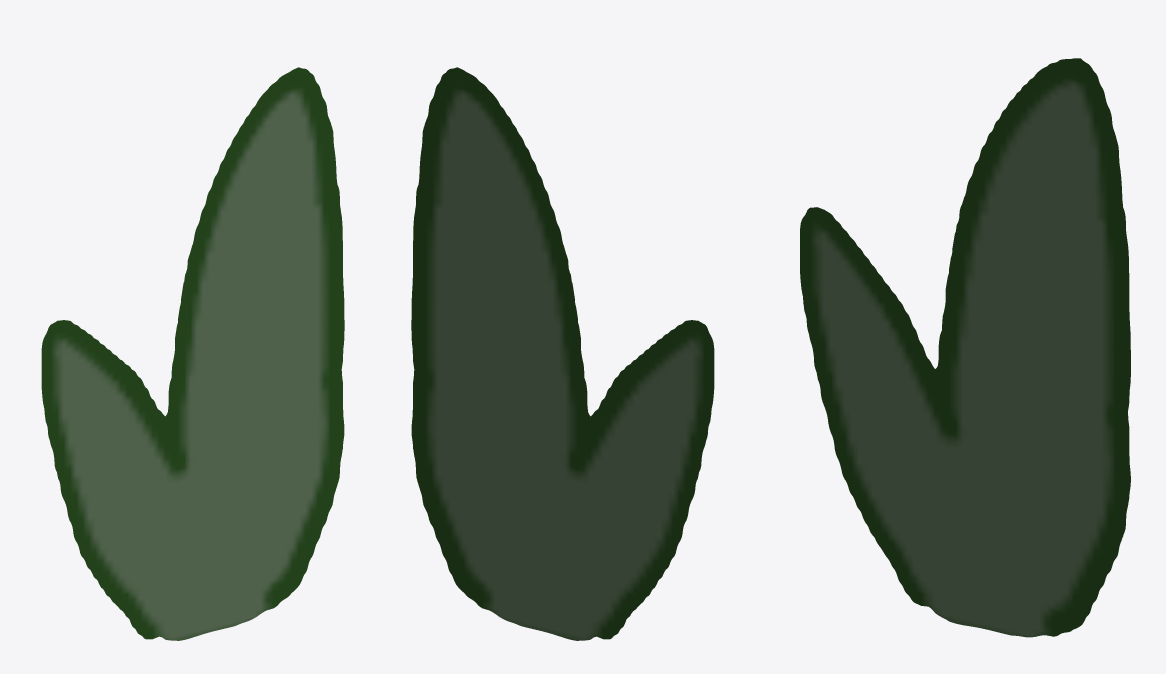
Rendered from grass002_mesh.fbx.
3 renders of one model, left to right at view 1: azimuth 30°, elevation 25°; view 2: azimuth 150°, elevation 25°; view 3: azimuth 330°, elevation 25°, orthographic. The views are drawn at different scales.
Visible parts, largest first — view 1: grass002; view 2: grass002; view 3: grass002.
Boxes of the visible parts, x1,y1,x2,y2 form: grass002: [41, 67, 344, 640]; grass002: [411, 67, 714, 640]; grass002: [800, 58, 1130, 637].
Size of the model in its own units: 24.33 by 41.19 by 2.52e-15.
